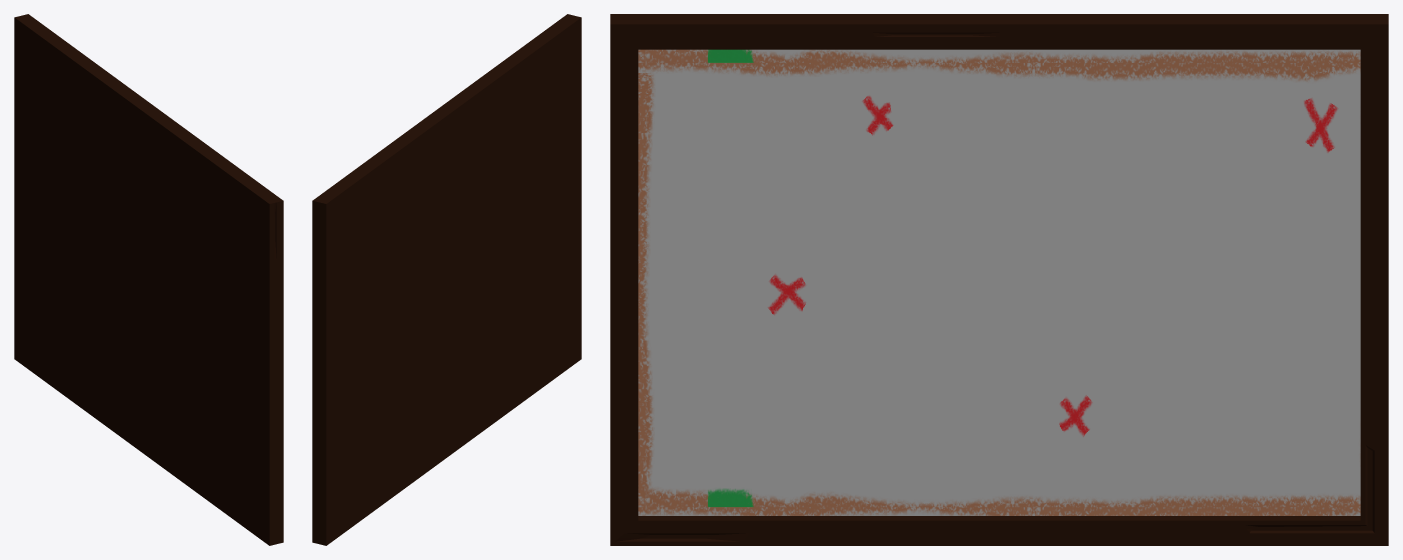
Rendered from mapgeneric.fbx.
3 renders of one model, left to right at view 1: azimuth 30°, elevation 25°; view 2: azimuth 150°, elevation 25°; view 3: azimuth 270°, elevation 25°, orthographic. The views are drawn at different scales.
Visible parts, largest first — view 1: Cube; view 2: Cube; view 3: Cube.001, Cube.
Boxes of the visible parts, box(x1,y1,x2,y2) form: Cube: box(14, 14, 283, 545); Cube: box(312, 14, 581, 545); Cube.001: box(638, 49, 1360, 515); Cube: box(610, 14, 1388, 545).
Size of the model in its own units: 99.19 by 2327 by 3147.
